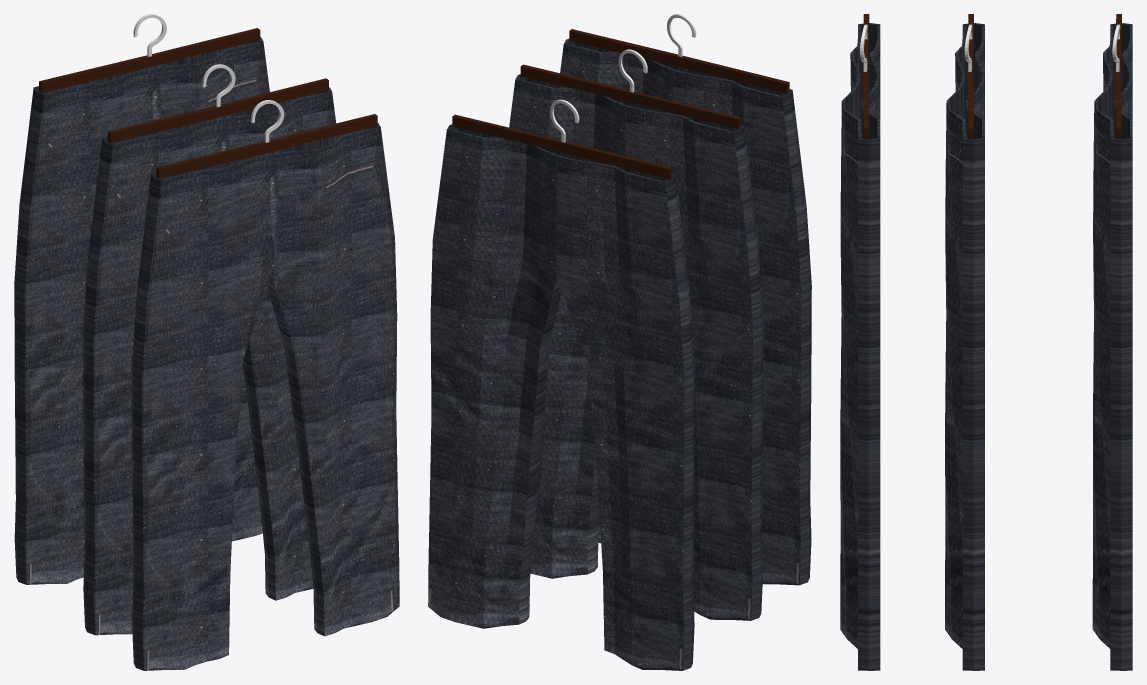
Rendered from koji2.glb.
3 renders of one model, left to right at view 1: azimuth 30°, elevation 25°; view 2: azimuth 150°, elevation 25°; view 3: azimuth 270°, elevation 25°, orthographic. The views are drawn at different scales.
Parts seen in each view (by area): view 1: Plane.020; view 2: Plane.020; view 3: Plane.020.
Part boxes in pixels (left/top/right/bottom): Plane.020: left=14, top=14, right=399, bottom=670; Plane.020: left=428, top=14, right=811, bottom=670; Plane.020: left=840, top=14, right=1132, bottom=670.
Size of the model in its own units: 0.2381 by 0.4706 by 0.2126.
3 materials, 3 textured.
